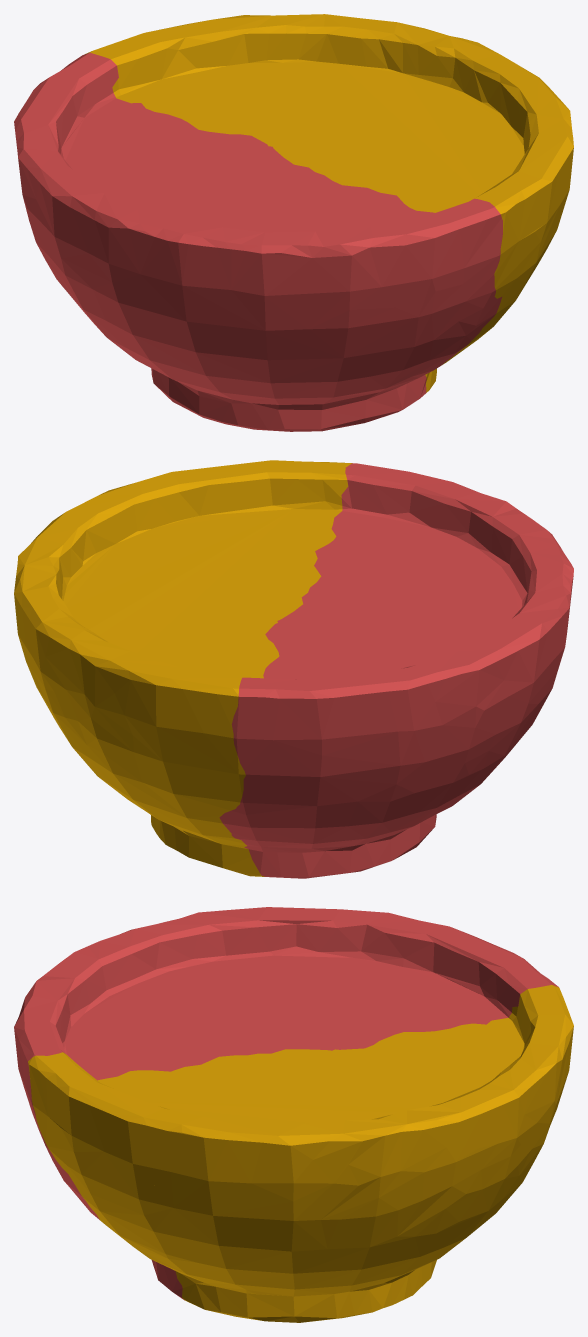
The model's file is mode_1_2pcs.glb.
The picture shows the model from 3 angles, top to bottom: view 1: azimuth 30°, elevation 25°; view 2: azimuth 150°, elevation 25°; view 3: azimuth 270°, elevation 25°; orthographic projection.
Visible parts, largest first — view 1: piece_1.obj, piece_0.obj; view 2: piece_1.obj, piece_0.obj; view 3: piece_0.obj, piece_1.obj.
Part boxes in pixels (bbox=[...]): piece_1.obj: bbox=[14, 53, 502, 431]; piece_0.obj: bbox=[85, 14, 573, 392]; piece_1.obj: bbox=[219, 463, 573, 878]; piece_0.obj: bbox=[14, 460, 352, 876]; piece_0.obj: bbox=[28, 985, 573, 1322]; piece_1.obj: bbox=[14, 907, 558, 1300].
Bounding box in the file's own units: 1 × 0.4822 × 0.9999.
